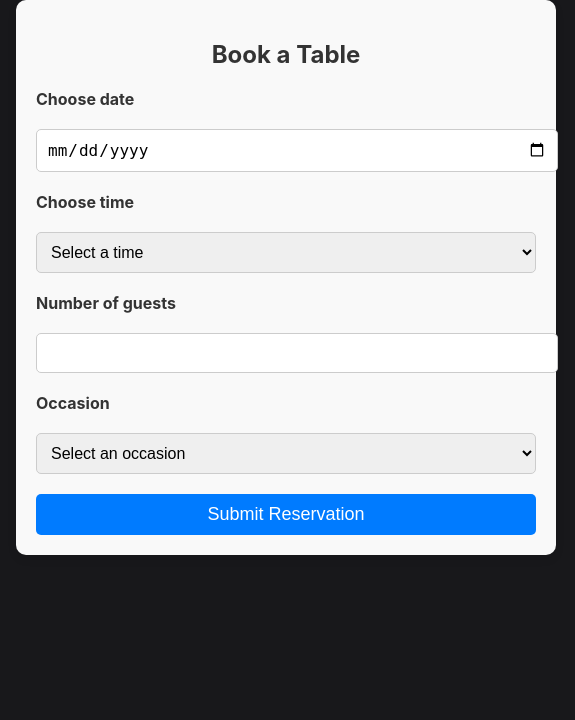
Test: BookingForm Component › shows validation errors on submitting empty form
Click on the submit button without filling any fields
Click the button "Submit Reservation".
click(286, 514)  # box x1=36 y1=494 x2=536 y2=535
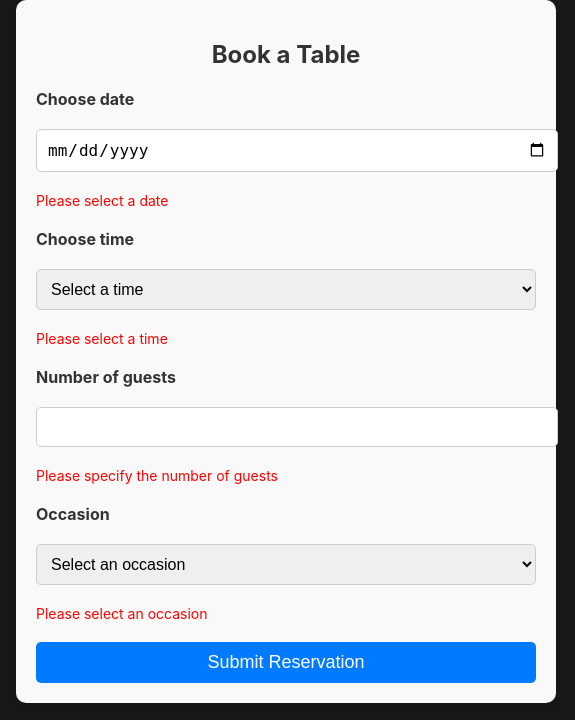
Now the text "Please select a date" is shown, box x1=36 y1=192 x2=168 y2=209
Now the text "Please select a time" is shown, box x1=36 y1=330 x2=168 y2=347
Now the text "Please specify the number of guests" is shown, box x1=36 y1=467 x2=278 y2=484
